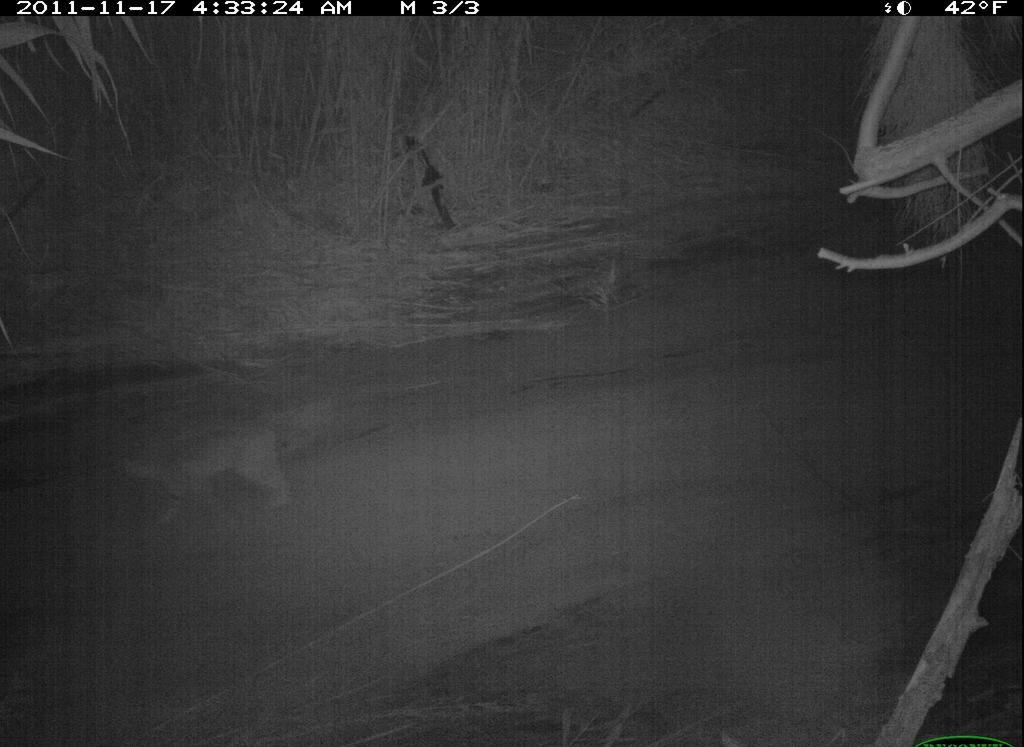bobcat: (112, 414, 324, 538)
